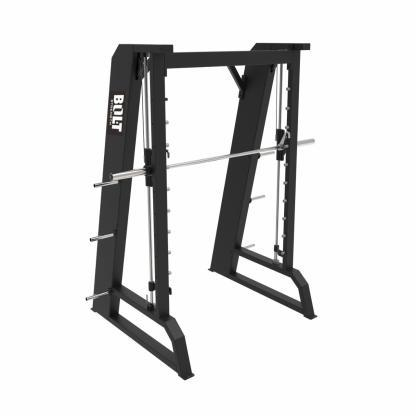smith machine: (86, 42, 319, 381)
